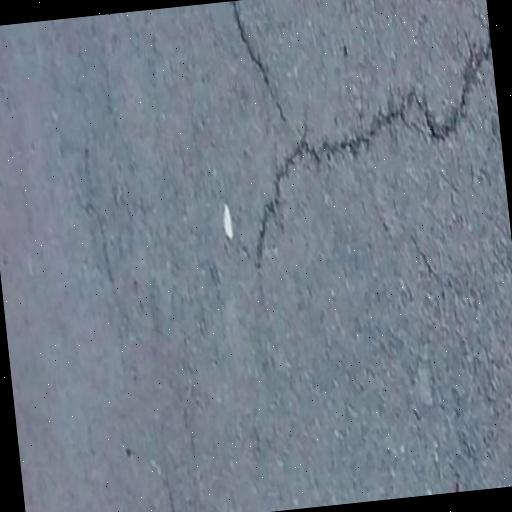spalling: (245, 30, 492, 272), (227, 5, 287, 125)
